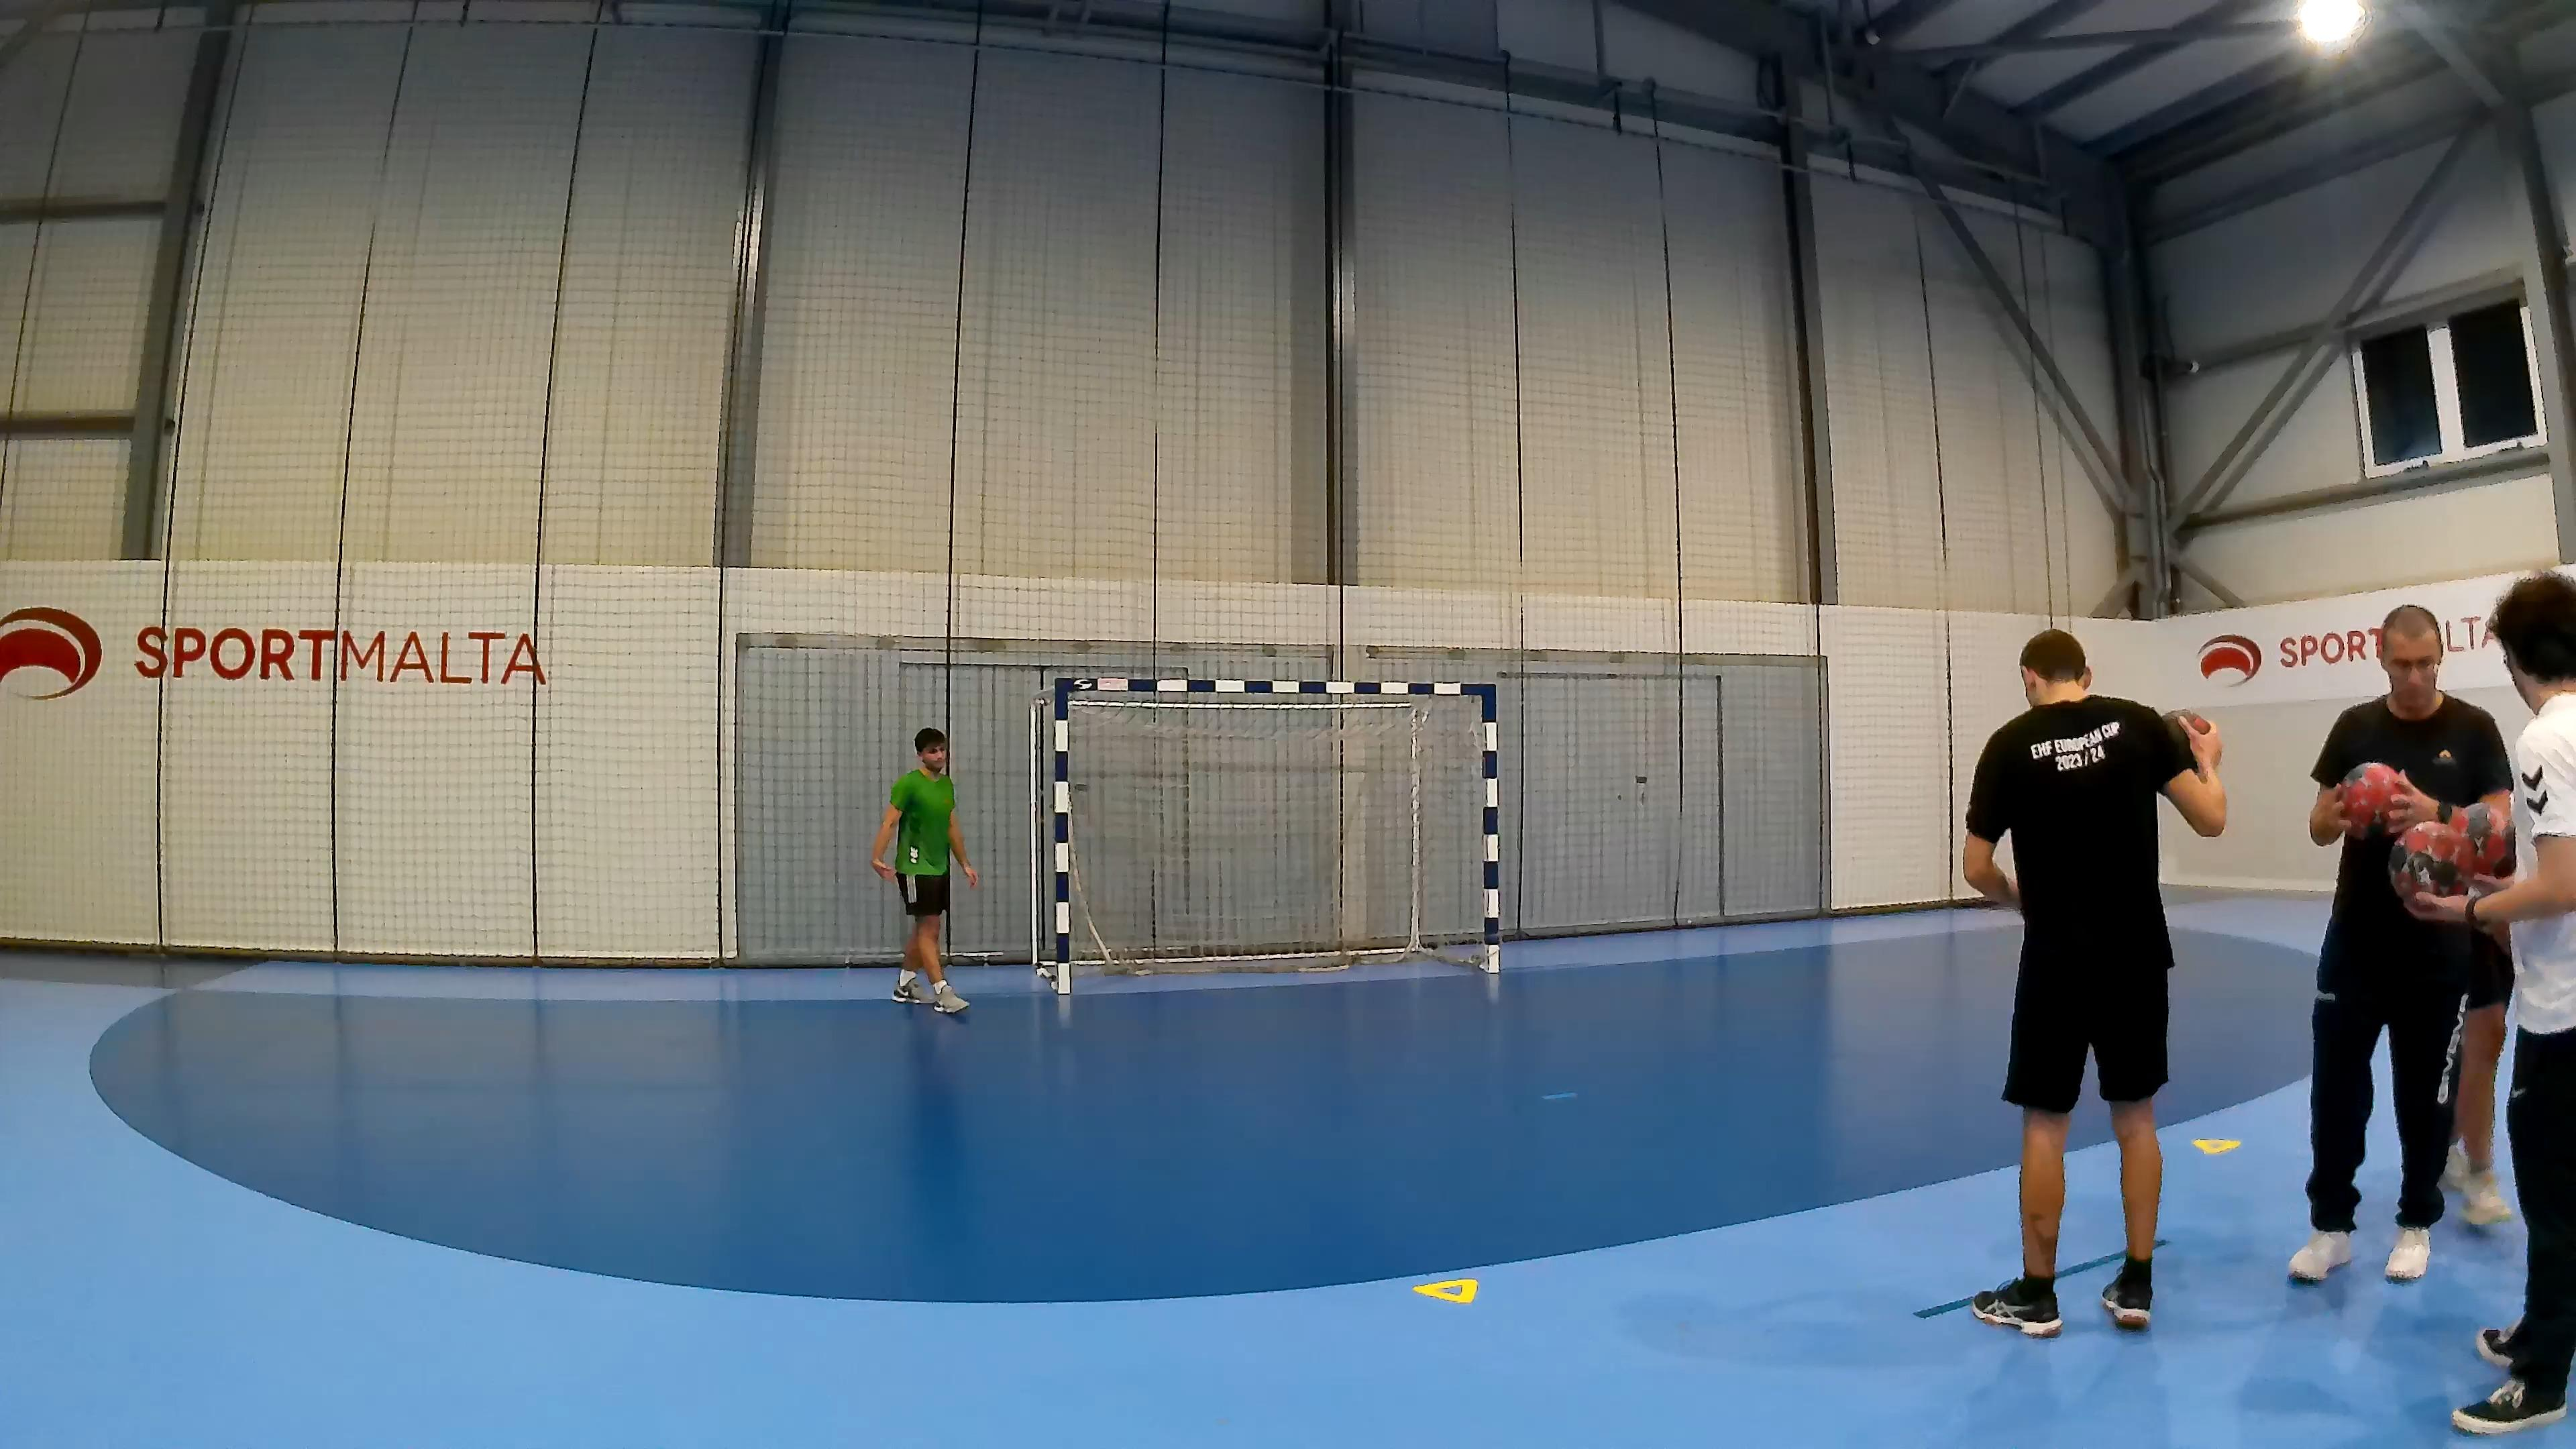handball: (2387, 819, 2470, 902), (2449, 798, 2518, 879), (2339, 761, 2404, 839)
